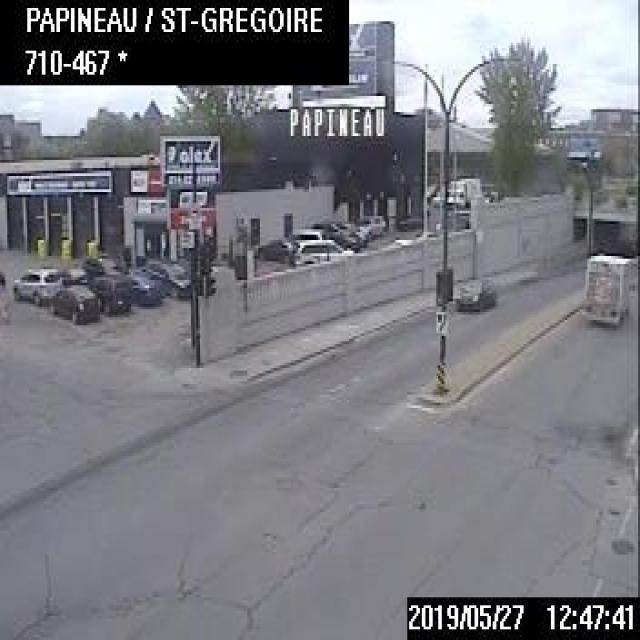vehicle: (580, 250, 627, 322), (51, 282, 100, 325), (11, 262, 59, 304), (290, 235, 353, 265), (87, 274, 129, 316), (121, 266, 161, 308), (311, 218, 360, 252), (151, 262, 191, 299), (447, 173, 481, 210), (456, 278, 493, 310), (256, 235, 297, 263), (82, 252, 116, 277), (290, 227, 324, 251), (354, 213, 385, 239)
